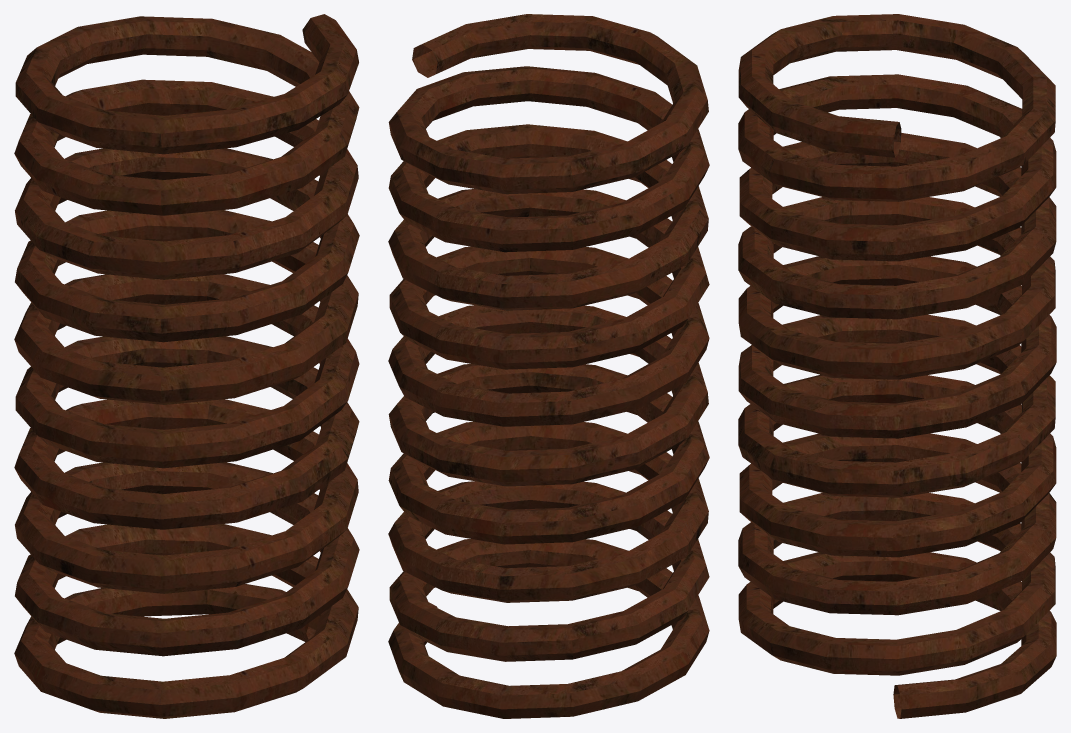
Rendered from spring_3.glb.
The picture shows the model from 3 angles, left to right: view 1: azimuth 30°, elevation 25°; view 2: azimuth 150°, elevation 25°; view 3: azimuth 270°, elevation 25°; orthographic projection. The views are drawn at different scales.
Parts seen in each view (by area): view 1: spring_3; view 2: spring_3; view 3: spring_3.
Part boxes in pixels (x1,y1,x2,y2): spring_3: (14,14,359,718); spring_3: (388,14,709,718); spring_3: (738,14,1056,718).
Size of the model in its own units: 0.045 by 0.0904 by 0.0439.
Materials: 1 (1 with a texture image).
